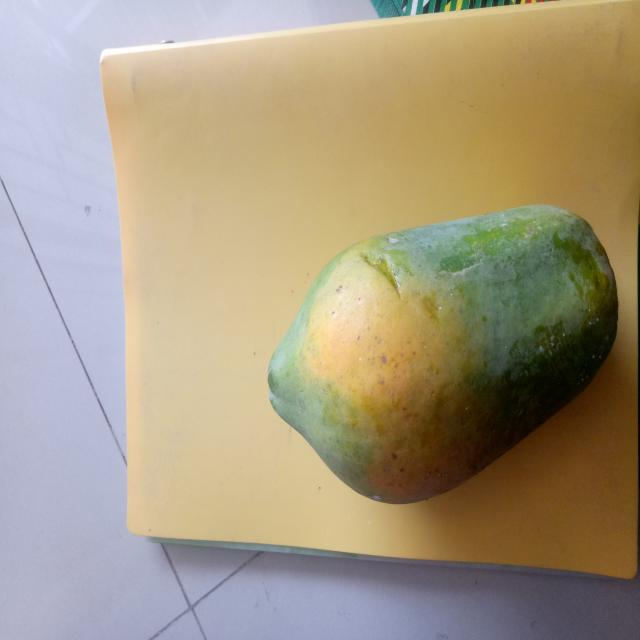Pepaya rippen: (266, 198, 630, 515)
